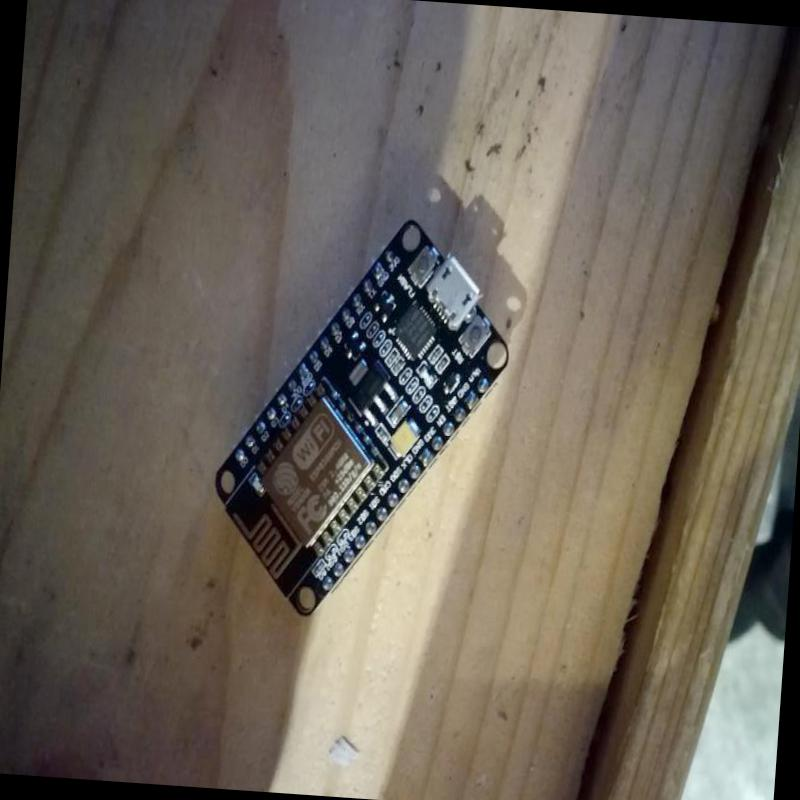ESP8266: (201, 203, 526, 635)
